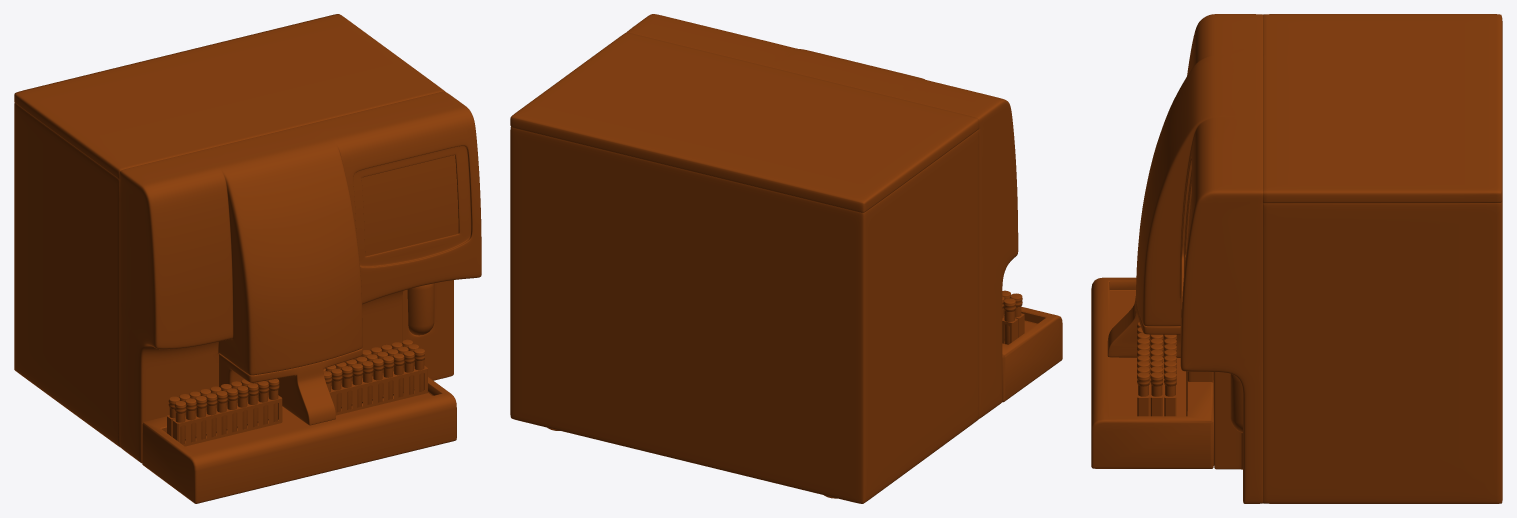
The model's file is Hemoglobin Analyzer 01.obj.
3 renders of one model, left to right at view 1: azimuth 30°, elevation 25°; view 2: azimuth 150°, elevation 25°; view 3: azimuth 270°, elevation 25°, orthographic. The views are drawn at different scales.
Parts seen in each view (by area): view 1: Hemoglobin_Analyzer_01; view 2: Hemoglobin_Analyzer_01; view 3: Hemoglobin_Analyzer_01.
Boxes of the visible parts, x1,y1,x2,y2 form: Hemoglobin_Analyzer_01: [14, 14, 481, 503]; Hemoglobin_Analyzer_01: [510, 14, 1062, 503]; Hemoglobin_Analyzer_01: [1091, 14, 1502, 503].
Bounding box in the file's own units: 491 × 409 × 475.
